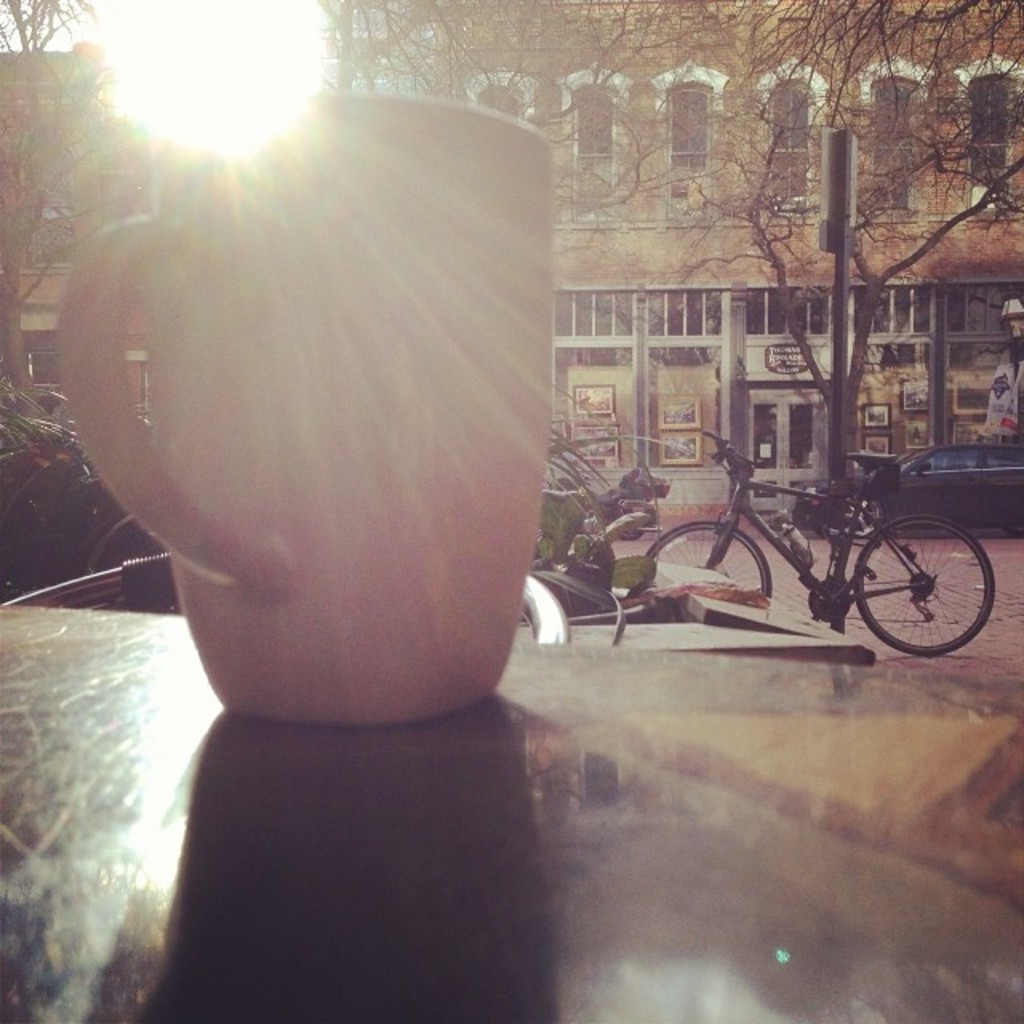Wheel: (870, 520, 1002, 643), (650, 520, 773, 597), (843, 493, 880, 539), (618, 528, 643, 541)
